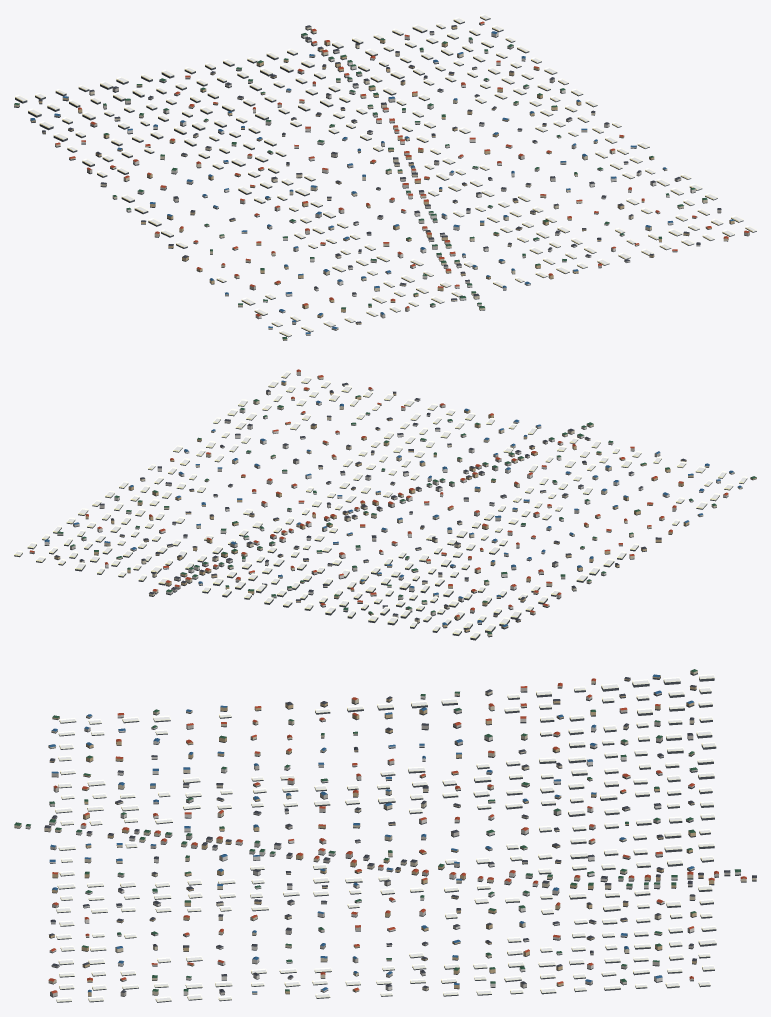
Rendered from buildings_T_E01_N04.glb.
3 renders of one model, top to bottom at view 1: azimuth 30°, elevation 25°; view 2: azimuth 150°, elevation 25°; view 3: azimuth 270°, elevation 25°, orthographic. The views are drawn at different scales.
Visible parts, largest first — view 1: T_E01_N04_slope_seating_foundations, T_E01_N04_roofs_agri_greenhouse_arch, T_E01_N04_walls_wall_french_ochre_villa, T_E01_N04_walls_wall_modern_warm_white, T_E01_N04_walls_wall_dalat_cream_stucco, T_E01_N04_roofs_roof_slate_French_villa_hip, T_E01_N04_roofs_roof_terracotta_gable, T_E01_N04_walls_wall_pastel_sand_gray, T_E01_N04_roofs_roof_pine_green_hip, T_E01_N04_roofs_roof_highland_blue_gable; view 2: T_E01_N04_slope_seating_foundations, T_E01_N04_roofs_agri_greenhouse_arch, T_E01_N04_walls_wall_french_ochre_villa, T_E01_N04_walls_wall_dalat_cream_stucco, T_E01_N04_walls_wall_modern_warm_white, T_E01_N04_roofs_roof_slate_French_villa_hip, T_E01_N04_walls_wall_pastel_sand_gray, T_E01_N04_roofs_roof_terracotta_gable, T_E01_N04_roofs_roof_pine_green_hip, T_E01_N04_roofs_roof_highland_blue_gable; view 3: T_E01_N04_slope_seating_foundations, T_E01_N04_roofs_agri_greenhouse_arch, T_E01_N04_walls_wall_french_ochre_villa, T_E01_N04_walls_wall_modern_warm_white, T_E01_N04_walls_wall_dalat_cream_stucco, T_E01_N04_roofs_roof_slate_French_villa_hip, T_E01_N04_walls_wall_pastel_sand_gray, T_E01_N04_roofs_roof_terracotta_gable, T_E01_N04_roofs_roof_pine_green_hip, T_E01_N04_roofs_roof_highland_blue_gable.
Boxes of the visible parts, bbox=[...] form: T_E01_N04_slope_seating_foundations: bbox=[14, 16, 756, 340]; T_E01_N04_roofs_agri_greenhouse_arch: bbox=[15, 14, 756, 336]; T_E01_N04_walls_wall_french_ochre_villa: bbox=[30, 26, 734, 340]; T_E01_N04_walls_wall_modern_warm_white: bbox=[81, 32, 695, 318]; T_E01_N04_walls_wall_dalat_cream_stucco: bbox=[14, 26, 728, 334]; T_E01_N04_roofs_roof_slate_French_villa_hip: bbox=[38, 25, 721, 323]; T_E01_N04_roofs_roof_terracotta_gable: bbox=[55, 21, 749, 316]; T_E01_N04_walls_wall_pastel_sand_gray: bbox=[54, 22, 749, 324]; T_E01_N04_roofs_roof_pine_green_hip: bbox=[14, 33, 707, 339]; T_E01_N04_roofs_roof_highland_blue_gable: bbox=[30, 31, 734, 334]; T_E01_N04_slope_seating_foundations: bbox=[14, 373, 756, 640]; T_E01_N04_roofs_agri_greenhouse_arch: bbox=[14, 371, 747, 638]; T_E01_N04_walls_wall_french_ochre_villa: bbox=[54, 381, 756, 631]; T_E01_N04_walls_wall_dalat_cream_stucco: bbox=[104, 376, 742, 636]; T_E01_N04_walls_wall_modern_warm_white: bbox=[44, 388, 728, 608]; T_E01_N04_roofs_roof_slate_French_villa_hip: bbox=[54, 382, 686, 629]; T_E01_N04_walls_wall_pastel_sand_gray: bbox=[29, 371, 720, 623]; T_E01_N04_roofs_roof_terracotta_gable: bbox=[29, 369, 728, 616]; T_E01_N04_roofs_roof_pine_green_hip: bbox=[57, 395, 756, 634]; T_E01_N04_roofs_roof_highland_blue_gable: bbox=[44, 380, 742, 627]; T_E01_N04_slope_seating_foundations: bbox=[14, 673, 756, 1002]; T_E01_N04_roofs_agri_greenhouse_arch: bbox=[55, 674, 716, 1001]; T_E01_N04_walls_wall_french_ochre_villa: bbox=[49, 675, 714, 995]; T_E01_N04_walls_wall_modern_warm_white: bbox=[25, 695, 740, 994]; T_E01_N04_walls_wall_dalat_cream_stucco: bbox=[14, 671, 756, 995]; T_E01_N04_roofs_roof_slate_French_villa_hip: bbox=[44, 677, 756, 992]; T_E01_N04_walls_wall_pastel_sand_gray: bbox=[49, 687, 730, 996]; T_E01_N04_roofs_roof_terracotta_gable: bbox=[48, 678, 746, 993]; T_E01_N04_roofs_roof_pine_green_hip: bbox=[14, 669, 740, 991]; T_E01_N04_roofs_roof_highland_blue_gable: bbox=[49, 674, 694, 992].
Bounding box in the file's own units: 1737 × 167 × 1947.
